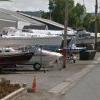Boat: (4, 13, 69, 70)
